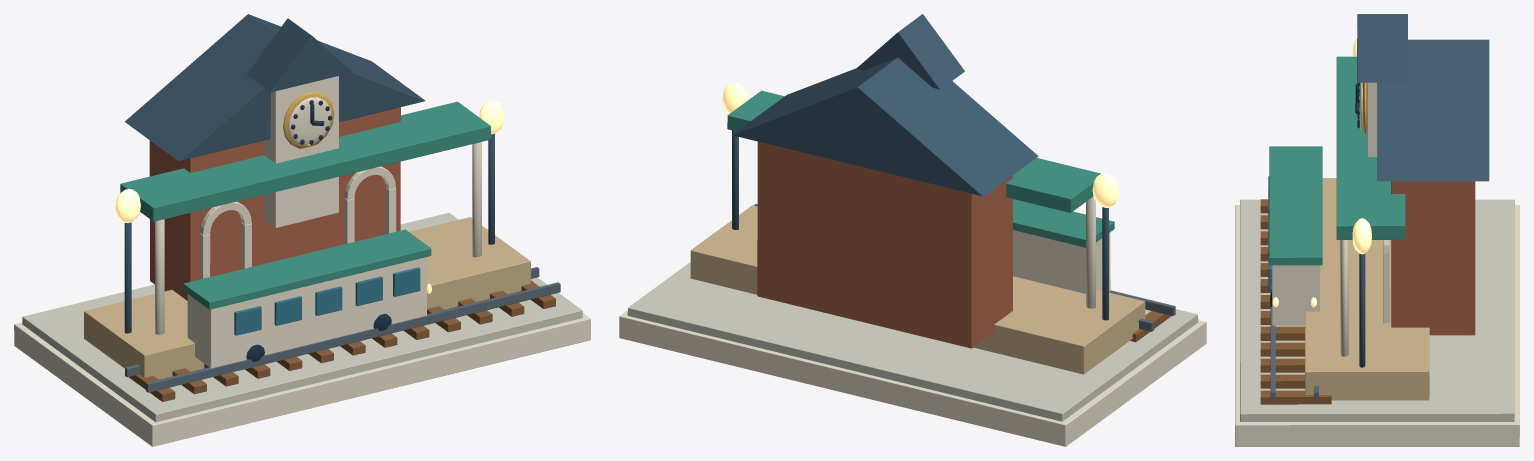
The model's file is transit-station-west.glb.
3 views of the same model, side by side, from view 1: azimuth 30°, elevation 25°; view 2: azimuth 150°, elevation 25°; view 3: azimuth 270°, elevation 25° (orthographic). The views are drawn at different scales.
Parts seen in each view (by area): view 1: Transit Station · West; view 2: Transit Station · West; view 3: Transit Station · West.
Boxes of the visible parts, x1=… form: Transit Station · West: x1=14, y1=14, x2=590, y2=446; Transit Station · West: x1=619, y1=14, x2=1206, y2=446; Transit Station · West: x1=1235, y1=14, x2=1519, y2=446.
Bounding box in the file's own units: 1.47 × 1.01 × 0.8064.
